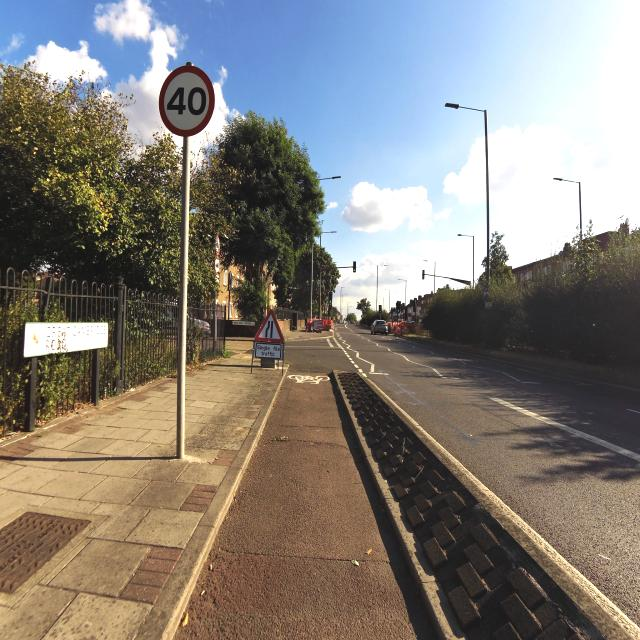car: (371, 320, 388, 336)
